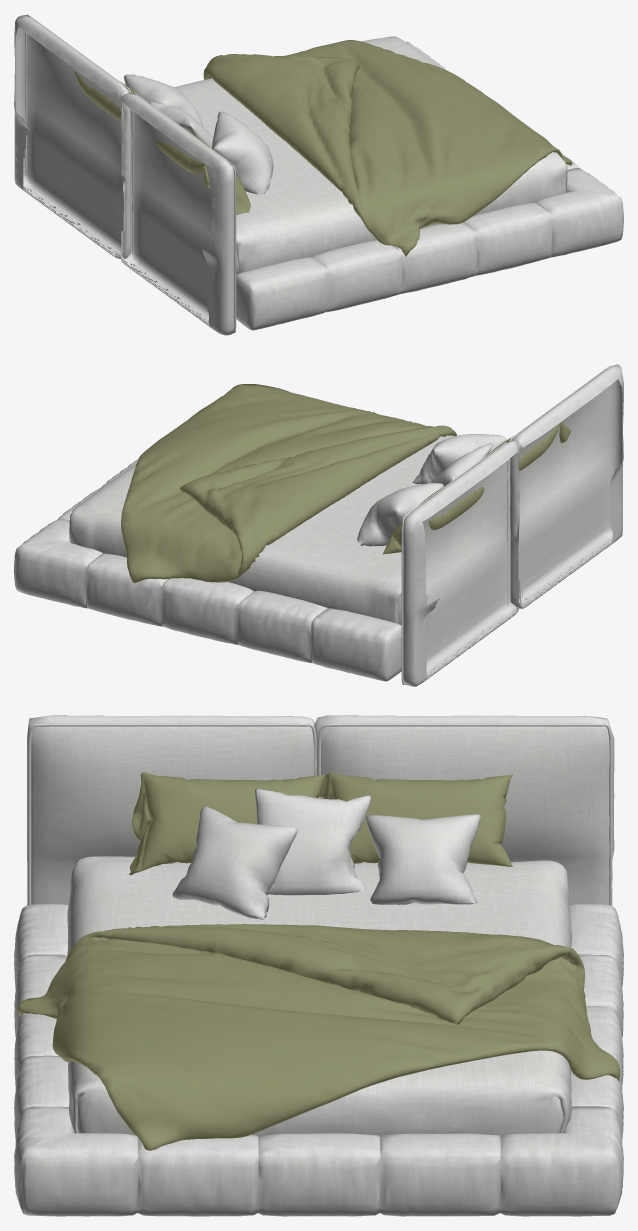
The model's file is Bed.fbx.
3 renders of one model, top to bottom at view 1: azimuth 30°, elevation 25°; view 2: azimuth 150°, elevation 25°; view 3: azimuth 270°, elevation 25°, orthographic. The views are drawn at different scales.
Parts seen in each view (by area): view 1: Blanket_001, Soft_modern_bed_001, Blanket, Blanket_002, Modern_Bed_001, Soft_modern_bed_002; view 2: Blanket_001, Soft_modern_bed_001, Blanket, Blanket_002, Modern_Bed_001, Soft_modern_bed_002; view 3: Blanket_001, Blanket, Soft_modern_bed_001, Blanket_002, Modern_Bed_001, Soft_modern_bed_002.
Part boxes in pixels (x1=…): Blanket_001: x1=74, y1=40, x2=572, y2=256; Soft_modern_bed_001: x1=14, y1=15, x2=234, y2=335; Blanket: x1=236, y1=41, x2=623, y2=330; Blanket_002: x1=174, y1=36, x2=567, y2=274; Modern_Bed_001: x1=124, y1=74, x2=273, y2=194; Soft_modern_bed_002: x1=25, y1=14, x2=236, y2=332; Blanket_001: x1=121, y1=384, x2=571, y2=583; Soft_modern_bed_001: x1=403, y1=364, x2=623, y2=686; Blanket: x1=14, y1=459, x2=401, y2=681; Blanket_002: x1=69, y1=435, x2=454, y2=624; Modern_Bed_001: x1=357, y1=434, x2=506, y2=546; Soft_modern_bed_002: x1=401, y1=365, x2=612, y2=684; Blanket_001: x1=17, y1=772, x2=620, y2=1150; Blanket: x1=14, y1=904, x2=623, y2=1216; Soft_modern_bed_001: x1=27, y1=715, x2=614, y2=905; Blanket_002: x1=67, y1=856, x2=571, y2=1136; Modern_Bed_001: x1=172, y1=788, x2=480, y2=919; Soft_modern_bed_002: x1=28, y1=723, x2=612, y2=905.
Size of the model in its own units: 248 by 99.77 by 230.
